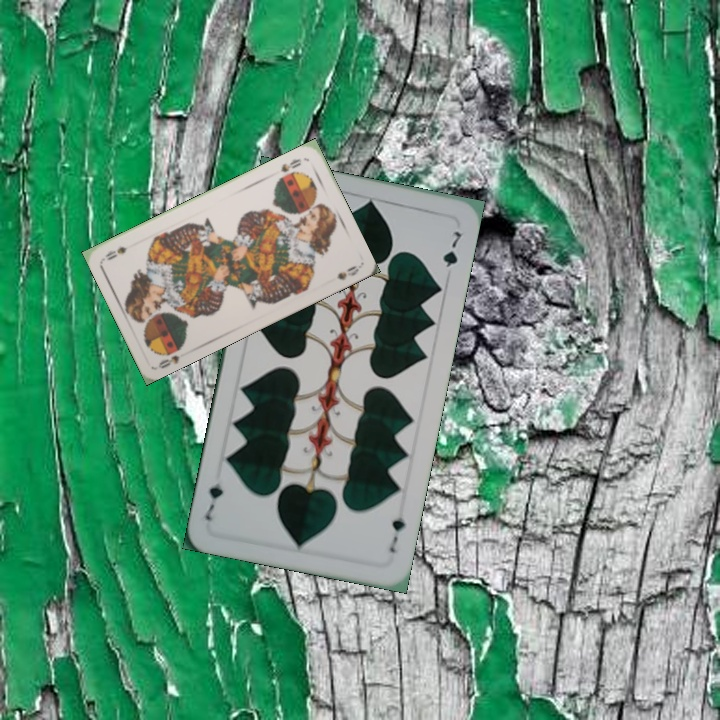G7: (385, 506, 408, 555)
SO: (276, 154, 304, 175), (154, 351, 182, 371)
